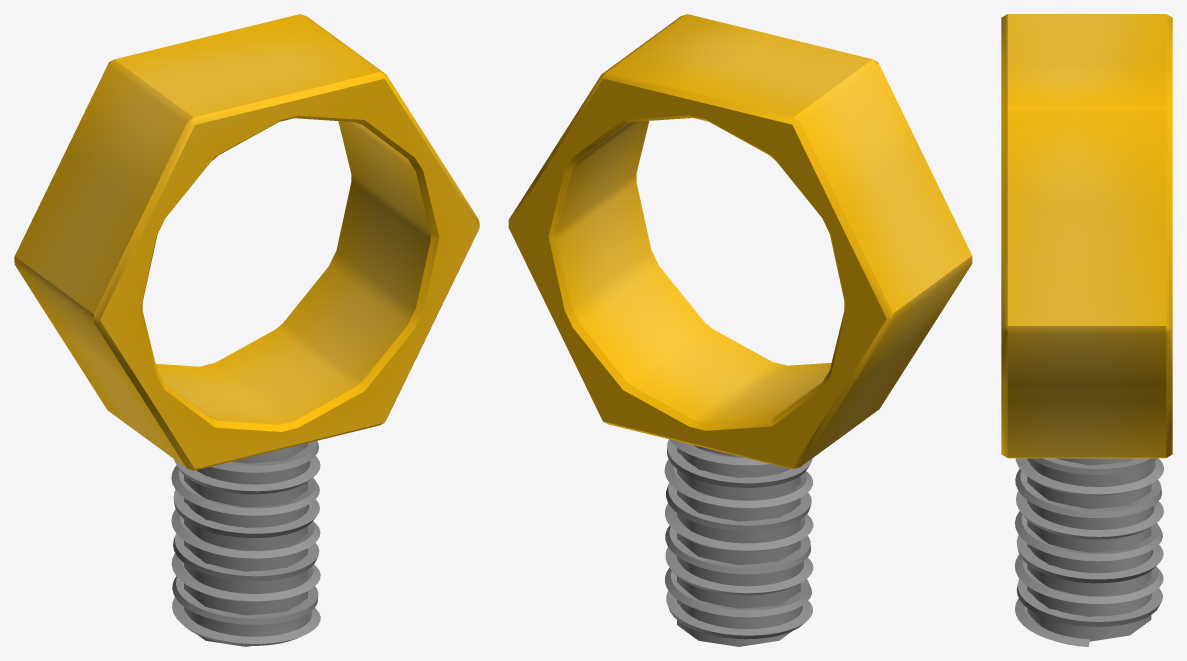
The model's file is Level 1 Grapple Point.fbx.
The picture shows the model from 3 angles, left to right: view 1: azimuth 30°, elevation 25°; view 2: azimuth 150°, elevation 25°; view 3: azimuth 270°, elevation 25°; orthographic projection.
Parts seen in each view (by area): view 1: BoltNut001, ScrewSpiral001, ScrewBody001; view 2: BoltNut001, ScrewSpiral001, ScrewBody001; view 3: BoltNut001, ScrewSpiral001, ScrewBody001.
Boxes of the visible parts, x1,y1,x2,y2 form: BoltNut001: (14,14,479,470); ScrewSpiral001: (171,440,320,645); ScrewBody001: (184,443,307,646); BoltNut001: (508,14,972,469); ScrewSpiral001: (664,439,813,639); ScrewBody001: (677,445,800,646); BoltNut001: (1001,14,1172,458); ScrewSpiral001: (1014,458,1163,646); ScrewBody001: (1027,458,1151,641).
Bounding box in the file's own units: 0.716 × 0.993 × 0.276.
Materials: 1 (1 with a texture image).
